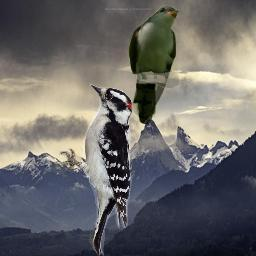Cuckoo: (128, 5, 179, 124)
Woodpecker: (53, 82, 134, 256)
